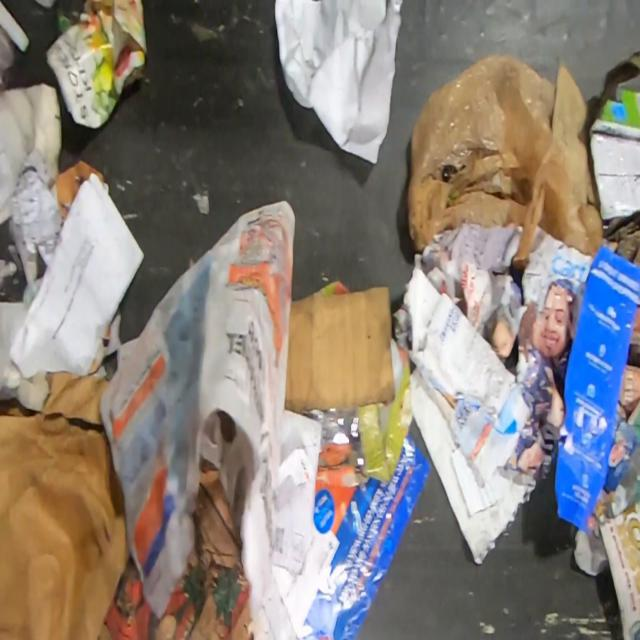cardboard: (284, 286, 396, 416), (587, 72, 640, 219)
soft_plastic: (406, 53, 604, 263), (316, 409, 360, 445)
